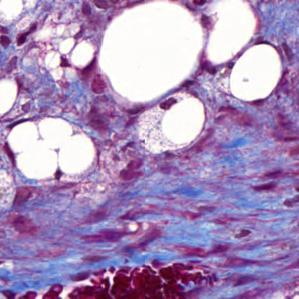steatosis: (229, 45, 283, 101)
